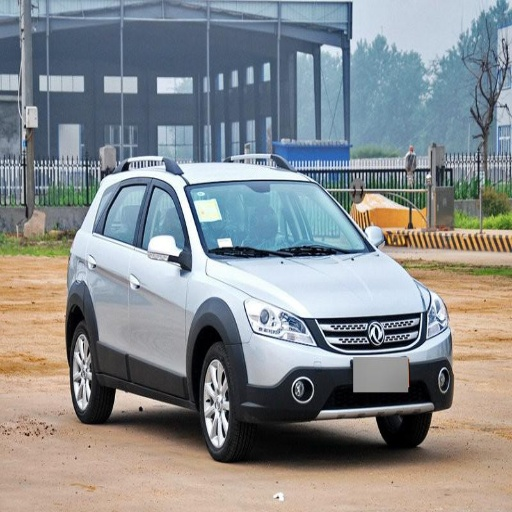front_bumper: (241, 313, 452, 424)
front_right_door: (130, 178, 192, 393)
front_right_light: (247, 300, 314, 344)
hood: (215, 251, 432, 320)
